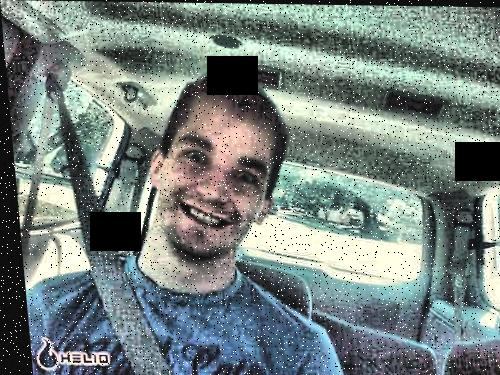seatbelt: (19, 71, 160, 346)
